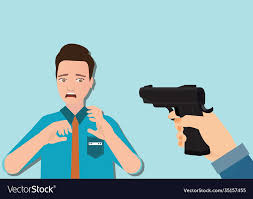gun: (136, 83, 217, 159)
